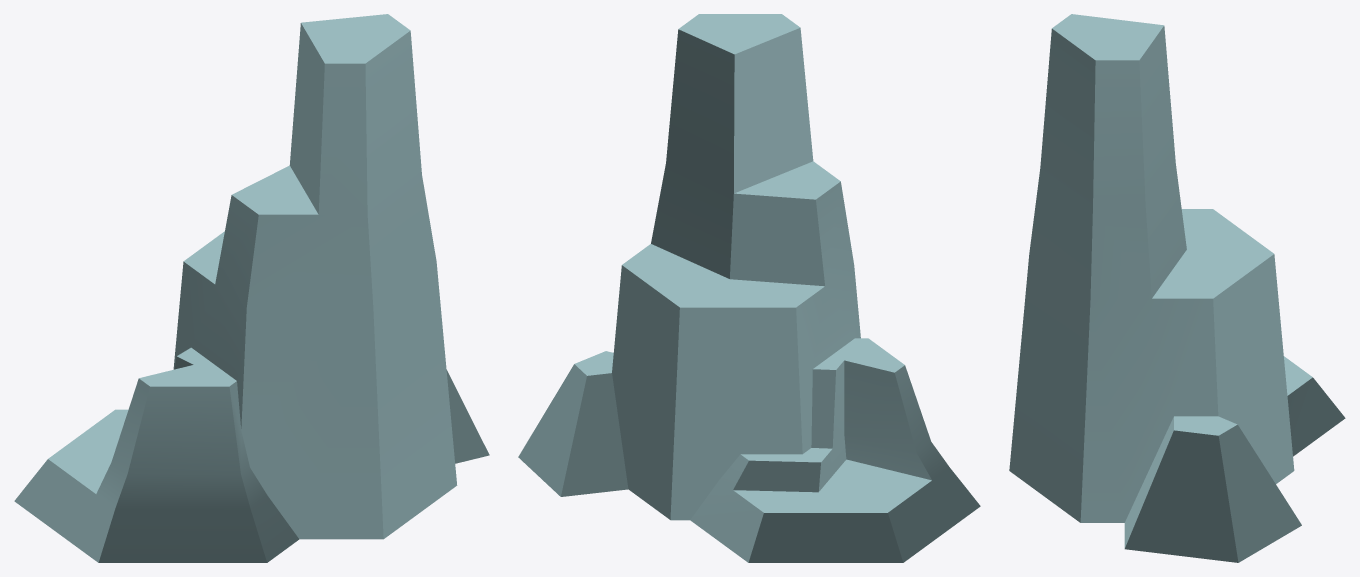
Rendered from stone_tall1.obj.
3 renders of one model, left to right at view 1: azimuth 30°, elevation 25°; view 2: azimuth 150°, elevation 25°; view 3: azimuth 270°, elevation 25°, orthographic. The views are drawn at different scales.
Visible parts, largest first — view 1: stone_tall1; view 2: stone_tall1; view 3: stone_tall1.
Part boxes in pixels (x1,y1,x2,y2): stone_tall1: (14,14,489,562); stone_tall1: (518,14,980,562); stone_tall1: (1009,14,1345,562).
Size of the model in its own units: 9.83 by 9.96 by 6.83.
